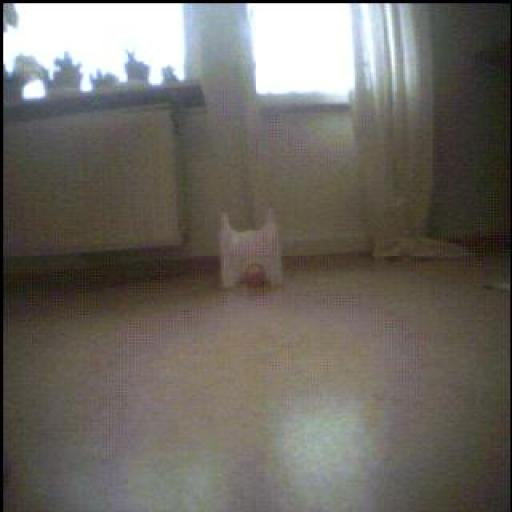Basket: (241, 260, 271, 291)
